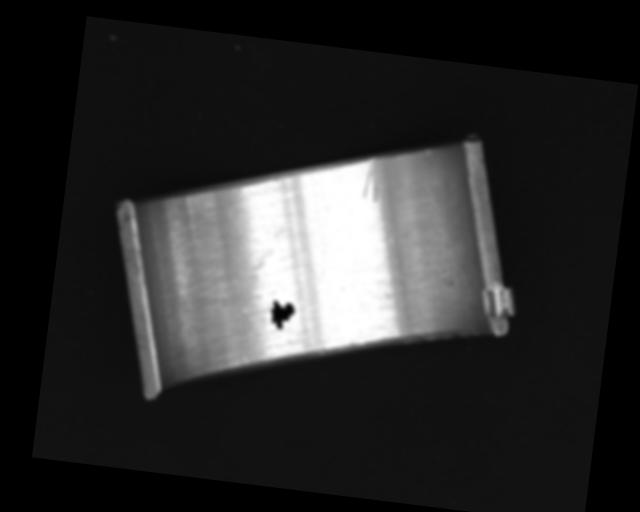blot: (266, 297, 297, 332)
nick: (361, 156, 384, 203), (425, 147, 434, 163)
